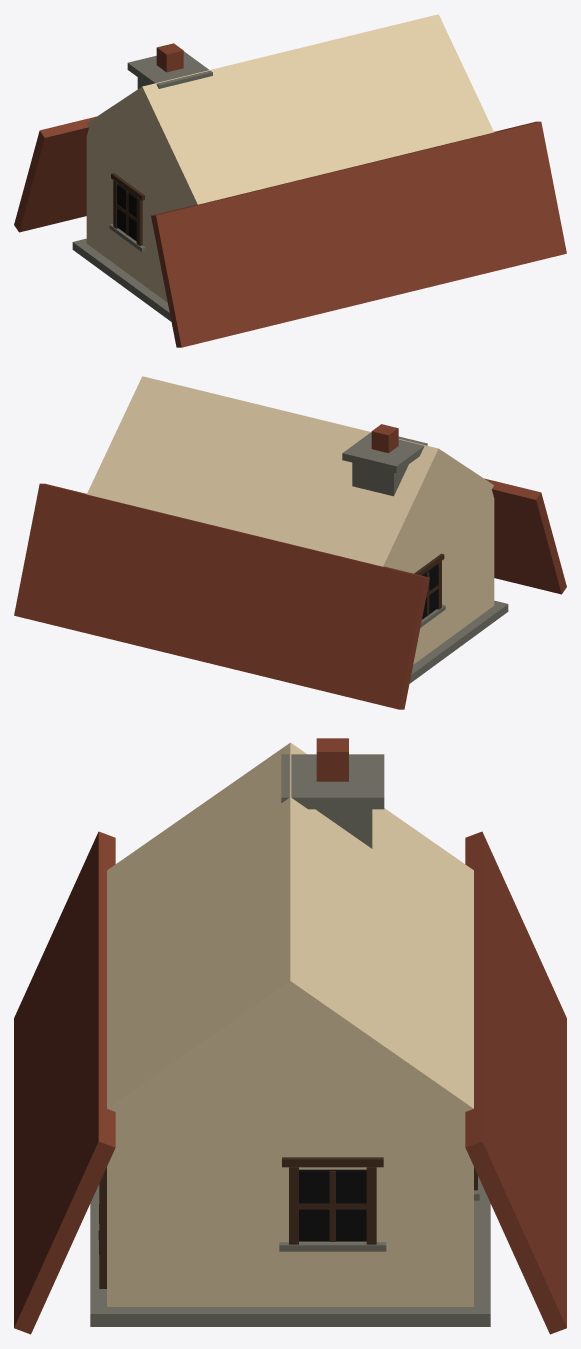
File: house_farmhouse.obj
3 renders of one model, top to bottom at view 1: azimuth 30°, elevation 25°; view 2: azimuth 150°, elevation 25°; view 3: azimuth 270°, elevation 25°, orthographic. The views are drawn at different scales.
Visible parts, largest first — view 1: house_farmhouse roof slope, house_farmhouse walls, house_farmhouse footing, house_farmhouse chimney cap, house_farmhouse end light recess, house_farmhouse chimney pot, house_farmhouse end light jamb; view 2: house_farmhouse roof slope, house_farmhouse walls, house_farmhouse chimney cap, house_farmhouse footing, house_farmhouse chimney stack, house_farmhouse chimney pot, house_farmhouse end light recess; view 3: house_farmhouse walls, house_farmhouse roof slope, house_farmhouse footing, house_farmhouse chimney cap, house_farmhouse end light recess, house_farmhouse end light jamb, house_farmhouse chimney pot, house_farmhouse chimney stack, house_farmhouse end light lintel, house_farmhouse end light sill, house_farmhouse corner post.
Part boxes in pixels (<box>): house_farmhouse roof slope: <box>14,116,566,347</box>; house_farmhouse walls: <box>86,14,493,302</box>; house_farmhouse footing: <box>72,238,171,321</box>; house_farmhouse chimney cap: <box>127,51,212,88</box>; house_farmhouse end light recess: <box>117,184,136,241</box>; house_farmhouse chimney pot: <box>156,43,183,72</box>; house_farmhouse end light jamb: <box>113,180,142,245</box>; house_farmhouse roof slope: <box>14,478,566,709</box>; house_farmhouse walls: <box>87,376,494,664</box>; house_farmhouse chimney cap: <box>342,432,427,473</box>; house_farmhouse footing: <box>409,600,508,683</box>; house_farmhouse chimney stack: <box>352,462,408,496</box>; house_farmhouse chimney pot: <box>371,424,398,453</box>; house_farmhouse end light recess: <box>422,565,438,619</box>; house_farmhouse walls: <box>107,742,473,1306</box>; house_farmhouse roof slope: <box>14,831,566,1334</box>; house_farmhouse footing: <box>90,1180,490,1326</box>; house_farmhouse chimney cap: <box>281,754,384,809</box>; house_farmhouse end light recess: <box>299,1169,366,1241</box>; house_farmhouse end light jamb: <box>289,1167,376,1244</box>; house_farmhouse chimney pot: <box>316,738,348,781</box>; house_farmhouse chimney stack: <box>316,809,372,848</box>; house_farmhouse end light lintel: <box>282,1157,383,1167</box>; house_farmhouse end light sill: <box>279,1242,386,1251</box>; house_farmhouse corner post: <box>99,1167,106,1288</box>.
Bounding box in the file's own units: 1040 × 577 × 784.
